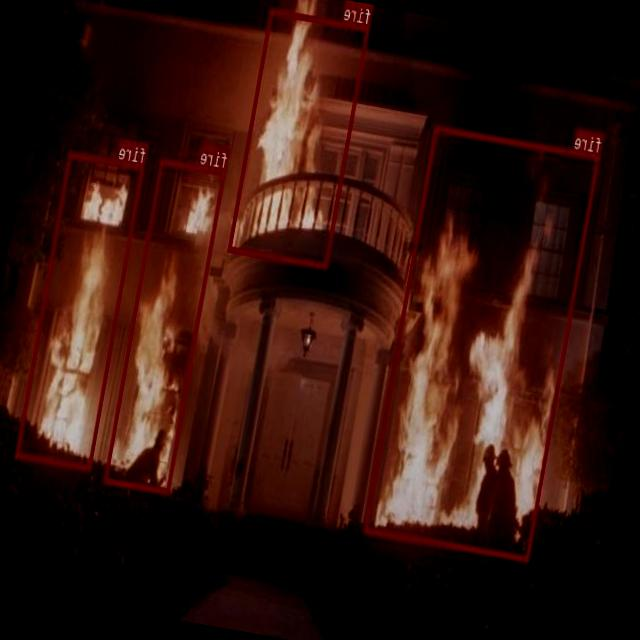fire: (364, 124, 600, 560), (15, 151, 144, 470), (105, 158, 226, 493), (228, 6, 370, 268)
